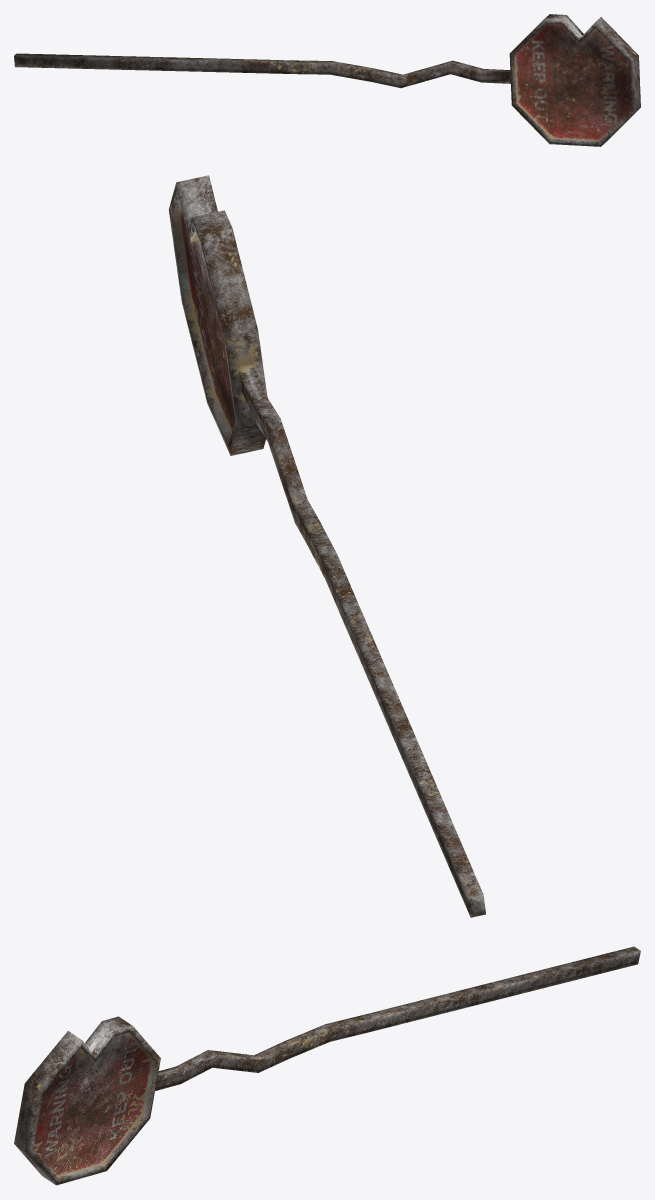
The model's file is Anim_idle_senyal_objetos.0036.obj.
3 views of the same model, one above another, from view 1: azimuth 30°, elevation 25°; view 2: azimuth 150°, elevation 25°; view 3: azimuth 270°, elevation 25° (orthographic). The views are drawn at different scales.
Size of the model in its own units: 8.64 by 2.59 by 9.41.
